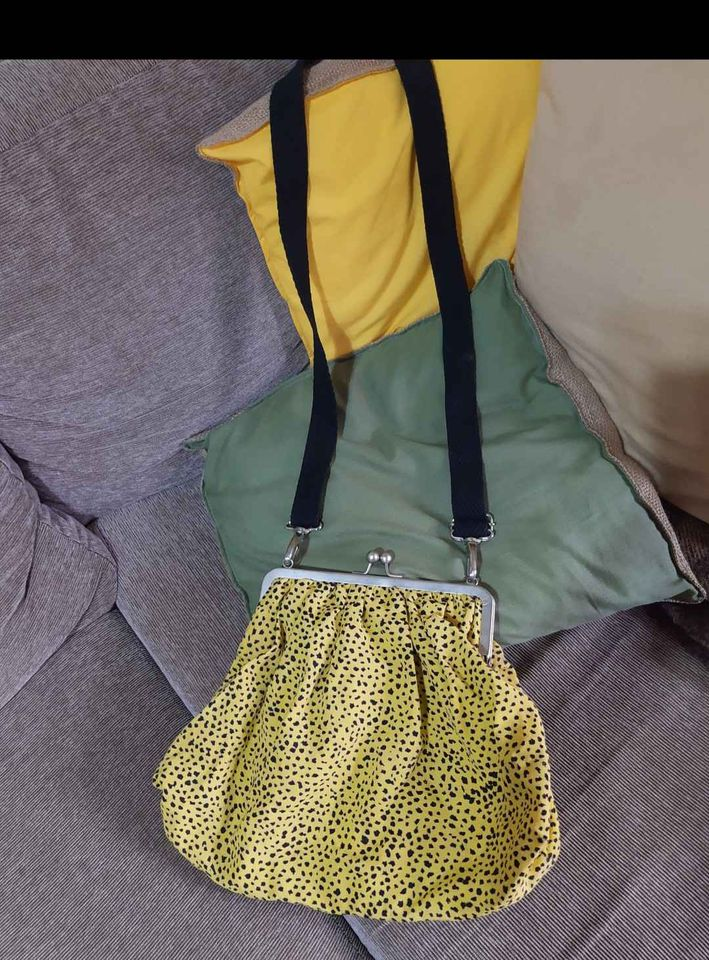cartera: (149, 534, 568, 930)
tela: (152, 619, 571, 929)
